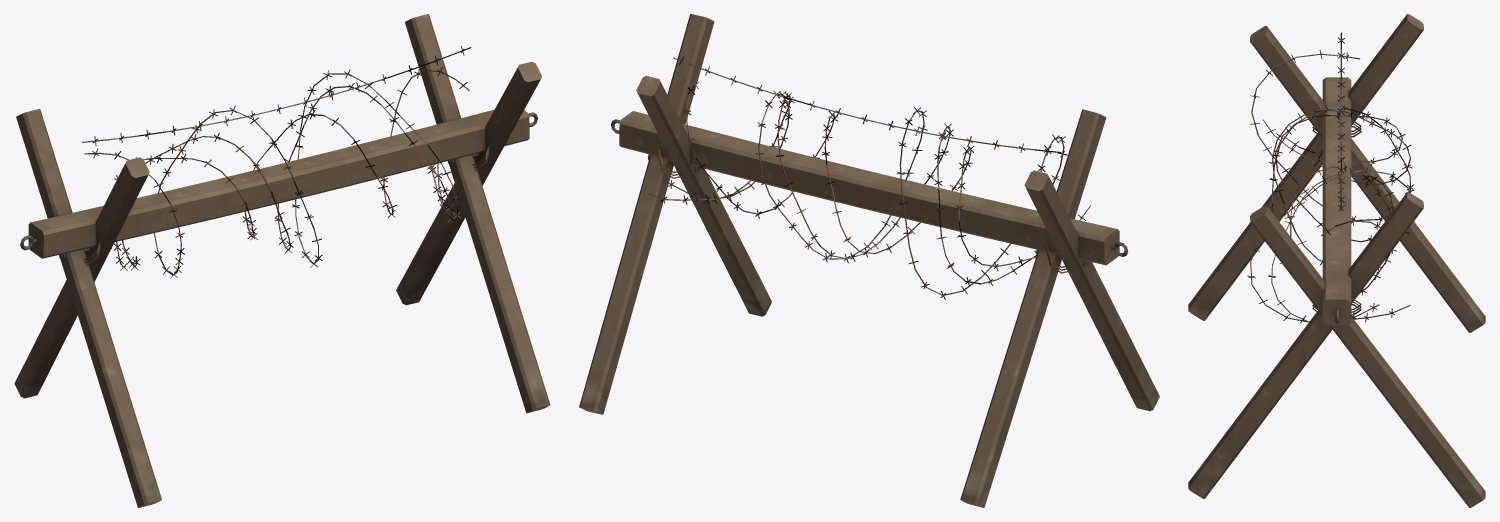
The model's file is knife_rest_end-low.glb.
3 renders of one model, left to right at view 1: azimuth 30°, elevation 25°; view 2: azimuth 150°, elevation 25°; view 3: azimuth 270°, elevation 25°, orthographic. The views are drawn at different scales.
Visible parts, largest first — view 1: knife_rest_end; view 2: knife_rest_end; view 3: knife_rest_end.
Part boxes in pixels (x1,y1,x2,y2): knife_rest_end: [14, 14, 550, 507]; knife_rest_end: [579, 14, 1159, 507]; knife_rest_end: [1188, 14, 1485, 507].
Bounding box in the file's own units: 2.56 × 1.5 × 1.36.
Materials: 2 (2 with a texture image).
